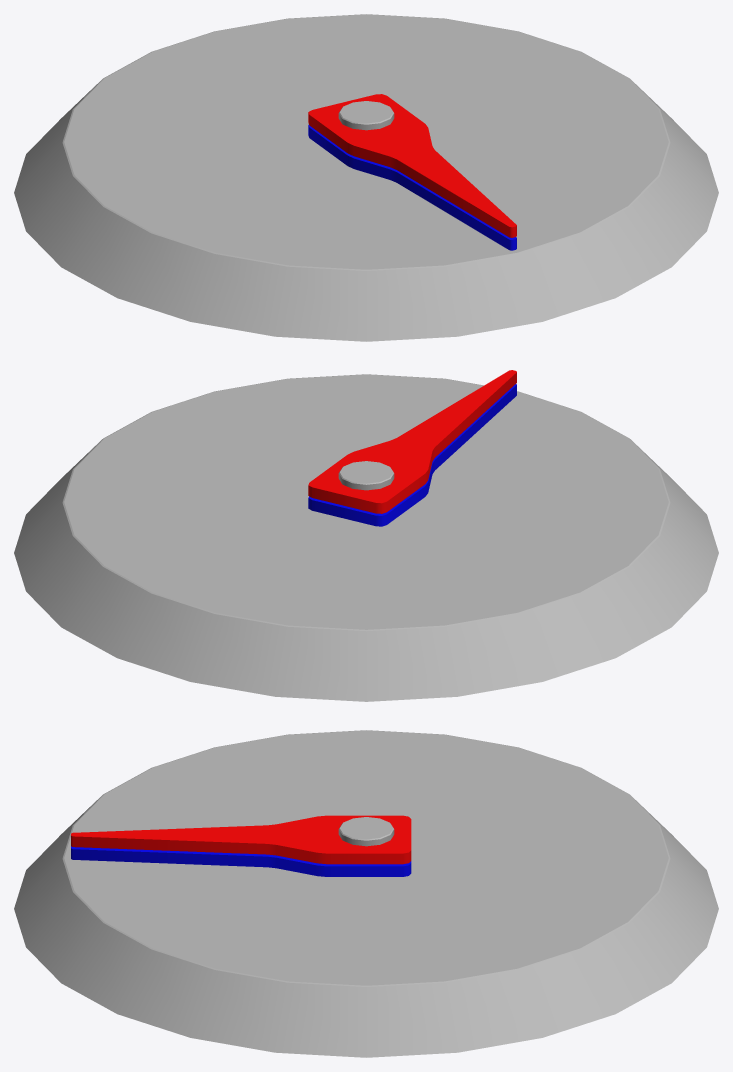
The model's file is PiT_DOOM_8SidedBillboard_Pedestal.fbx.
3 renders of one model, top to bottom at view 1: azimuth 30°, elevation 25°; view 2: azimuth 150°, elevation 25°; view 3: azimuth 270°, elevation 25°, orthographic.
Parts seen in each view (by area): view 1: Pedestal, EntityDirectionArrow, TowardsPlayerArrow; view 2: Pedestal, EntityDirectionArrow, TowardsPlayerArrow; view 3: Pedestal, EntityDirectionArrow, TowardsPlayerArrow.
Part boxes in pixels (<box>): Pedestal: <box>14,14,718,341</box>; EntityDirectionArrow: <box>308,94,516,237</box>; TowardsPlayerArrow: <box>308,124,516,250</box>; Pedestal: <box>14,374,718,701</box>; EntityDirectionArrow: <box>308,370,516,513</box>; TowardsPlayerArrow: <box>308,384,516,526</box>; Pedestal: <box>14,730,718,1057</box>; EntityDirectionArrow: <box>71,815,411,864</box>; TowardsPlayerArrow: <box>71,846,411,876</box>.
Size of the model in its own units: 300 by 37.88 by 300.
